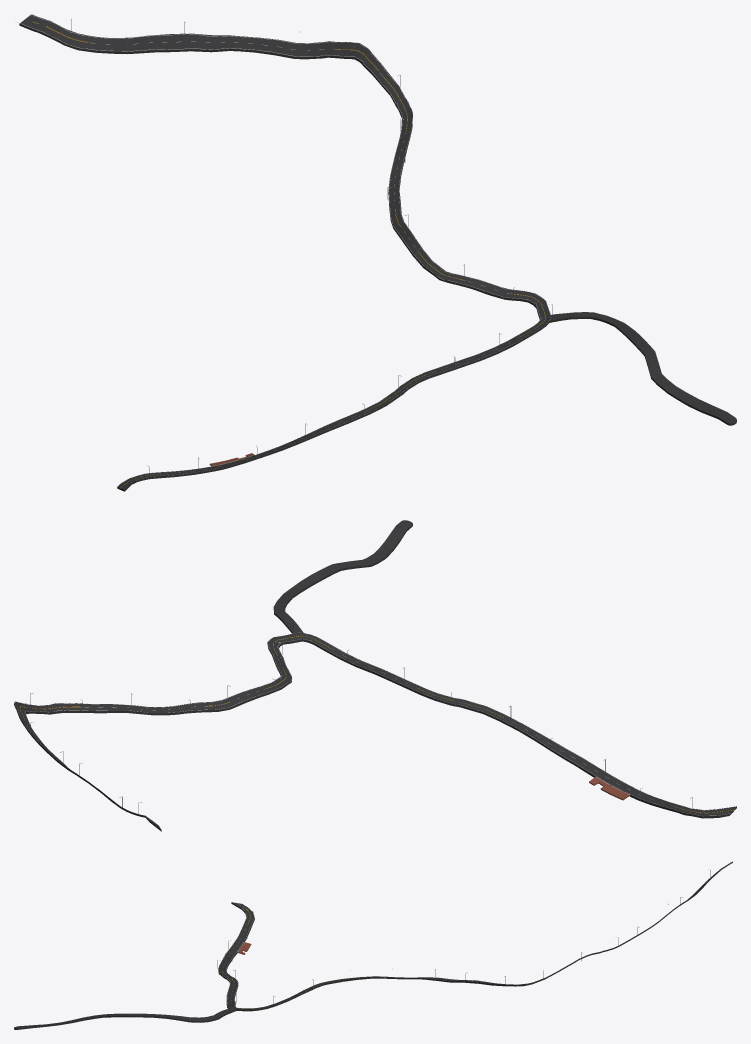
3 views of the same model, one above another, from view 1: azimuth 30°, elevation 25°; view 2: azimuth 150°, elevation 25°; view 3: azimuth 270°, elevation 25° (orthographic). The views are drawn at different scales.
Bounding box in the file's own units: 311 × 111 × 535.
